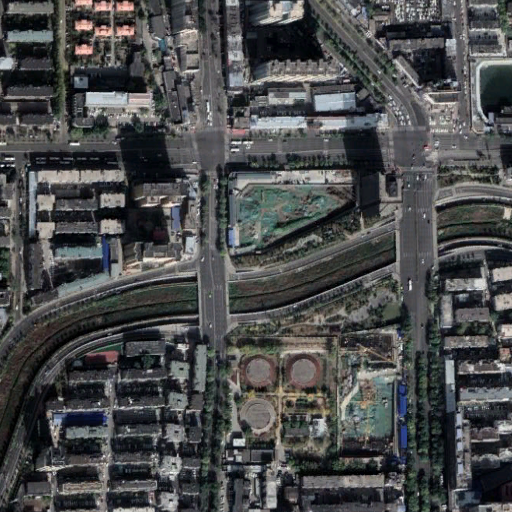cw: (238, 183, 351, 254), (335, 366, 394, 454)
